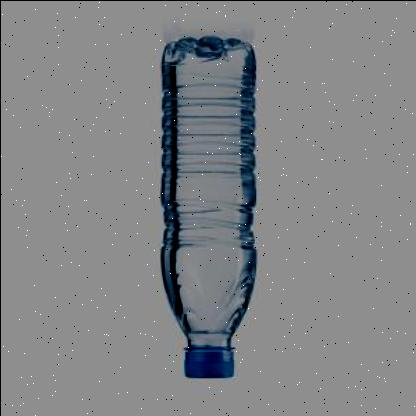Plastic Bottle: (160, 36, 258, 378)
